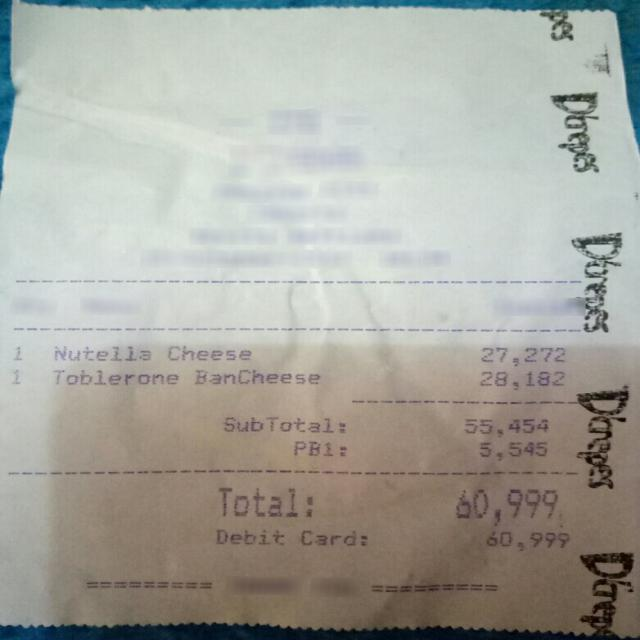text: (452, 486, 563, 526), (217, 486, 313, 516), (56, 368, 176, 384), (222, 417, 344, 432), (478, 346, 566, 366), (478, 370, 566, 390), (194, 368, 319, 382), (463, 416, 548, 436), (483, 530, 568, 550), (54, 346, 149, 360), (478, 440, 545, 459), (167, 345, 250, 360), (298, 529, 366, 545), (215, 528, 282, 544), (293, 440, 345, 456), (10, 344, 24, 361), (9, 368, 22, 386)
